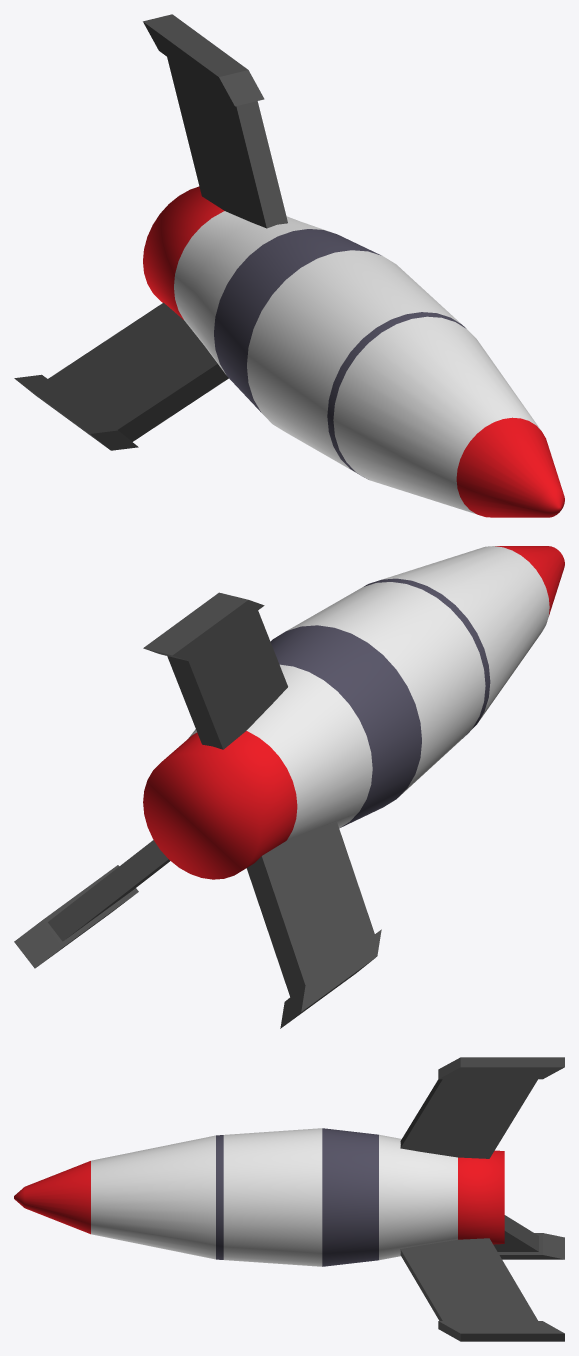
The model's file is Rocket.fbx.
The picture shows the model from 3 angles, top to bottom: view 1: azimuth 30°, elevation 25°; view 2: azimuth 150°, elevation 25°; view 3: azimuth 270°, elevation 25°; orthographic projection. The views are drawn at different scales.
Visible parts, largest first — view 1: Rocket; view 2: Rocket; view 3: Rocket.
Part boxes in pixels (x1,y1,x2,y2): Rocket: [14, 14, 564, 517]; Rocket: [14, 546, 564, 1028]; Rocket: [14, 1057, 564, 1341].
Size of the model in its own units: 100 by 116 by 243.
